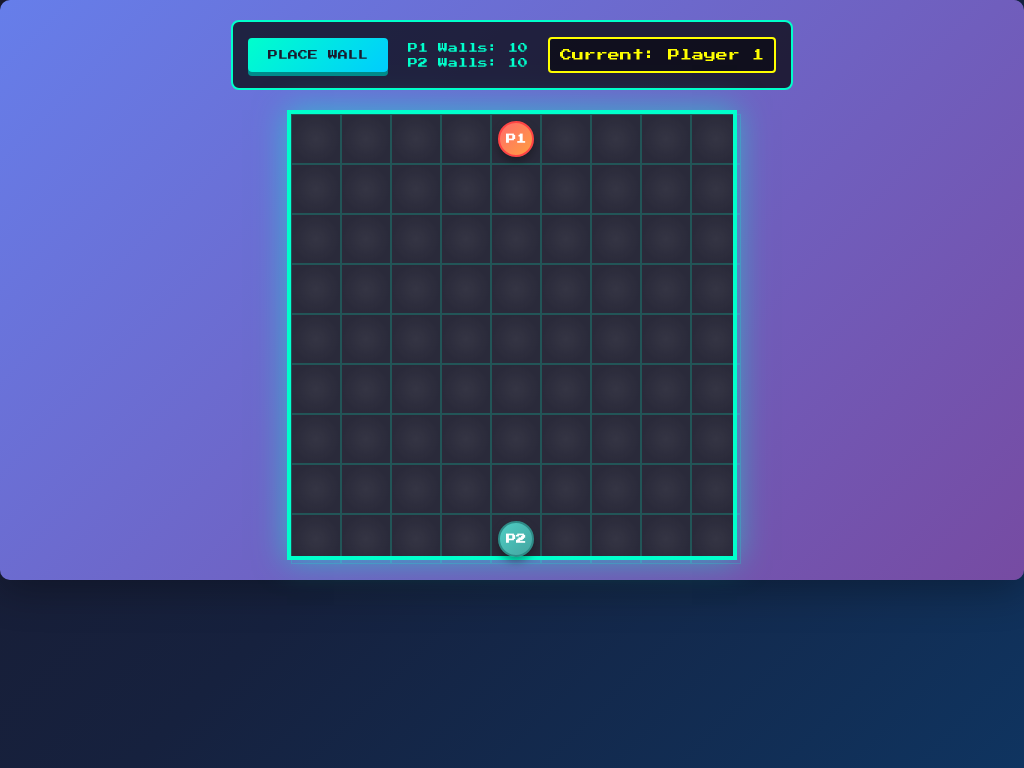
Test: GameBoard Component › Wall Placement Mode › toggles wall orientation
The image size is (1024, 768).
// Enter wall mode first
Click the button "Place Wall" at [318, 55], box 248,38 -> 388,72
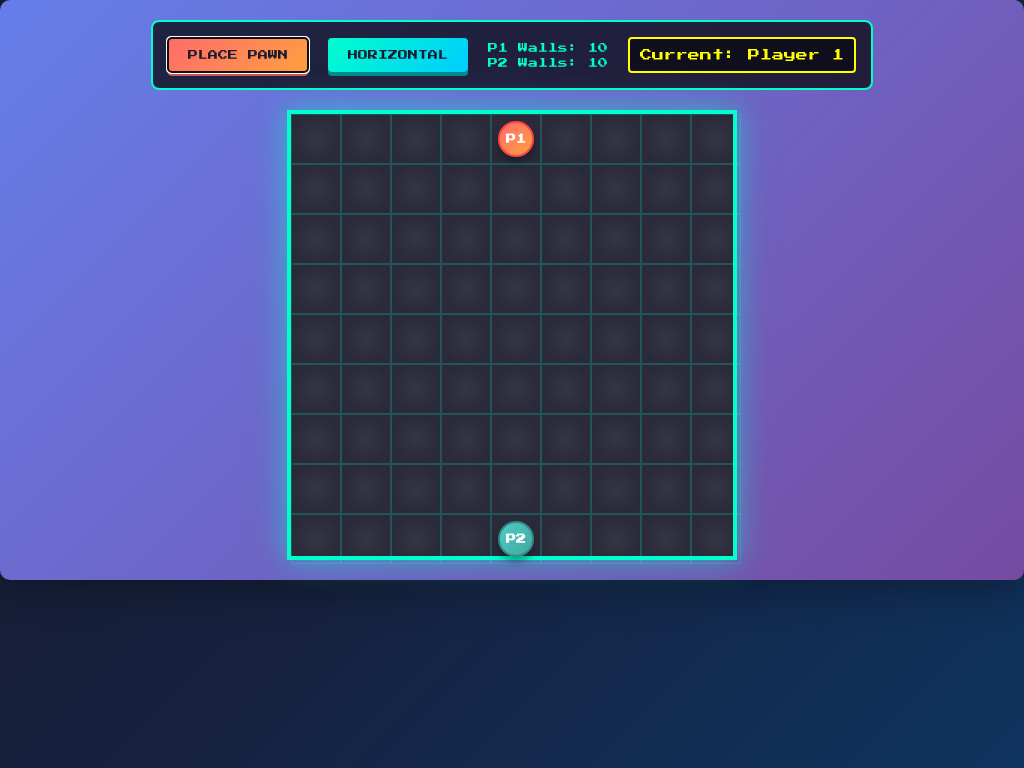
// Toggle orientation
Click the button "Horizontal" at [398, 55], box 328,38 -> 468,72
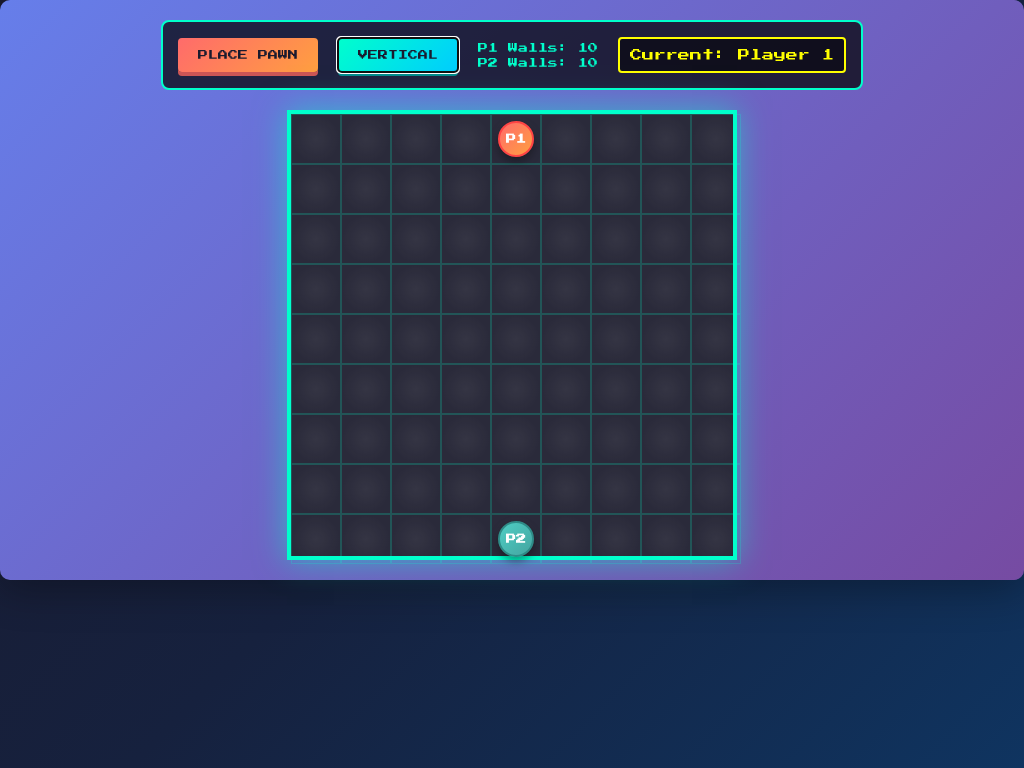
Now the button "Vertical" is shown, box 338,38 -> 458,72
